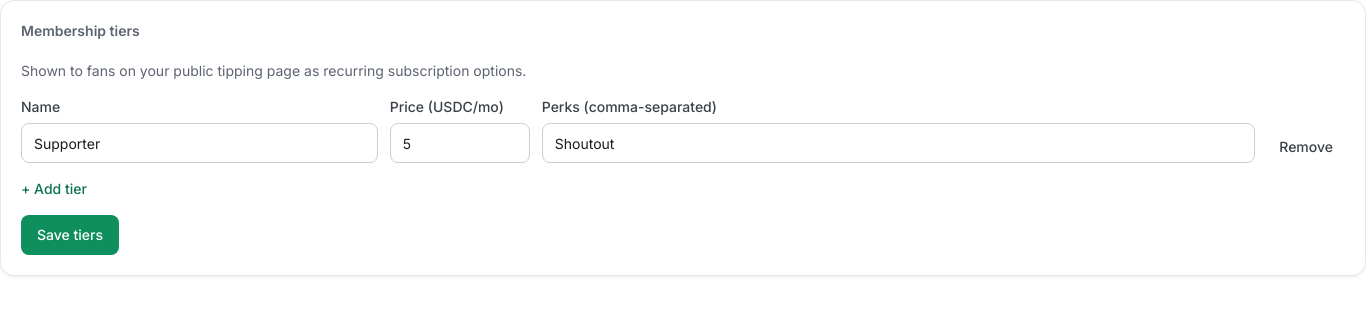
Scenario: MembershipTierManager › shows a generic error when saving fails
Click the button "Save tiers".
click(70, 235)  # box [21, 215, 119, 255]
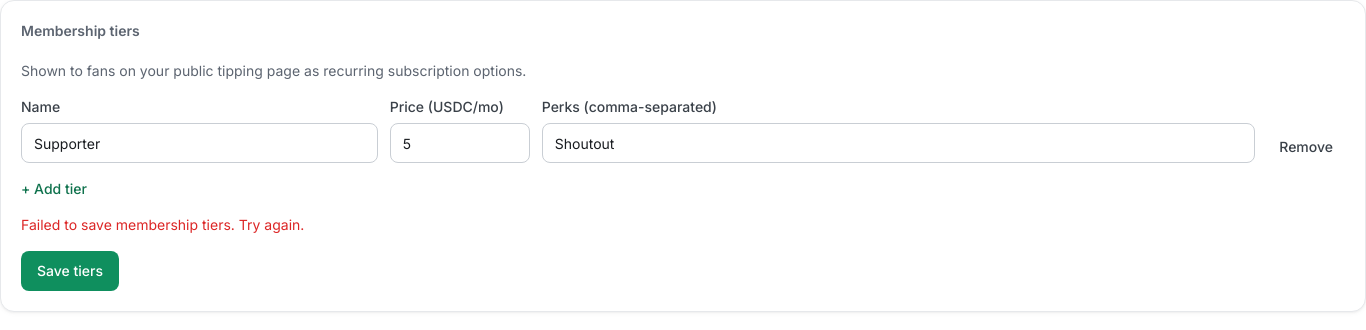
Result: the text "Failed to save membership tiers. Try again." is shown at [21, 216, 304, 233]
